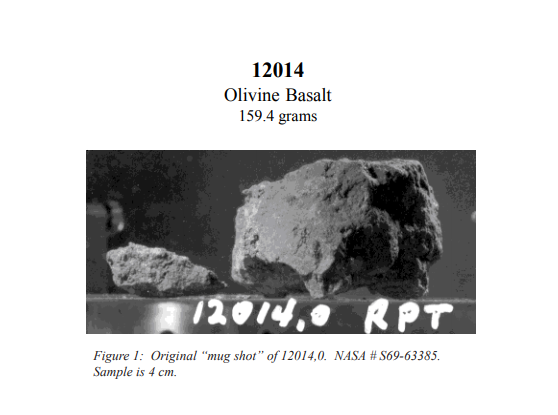Basalt: (234, 151, 434, 297), (93, 230, 225, 296)
